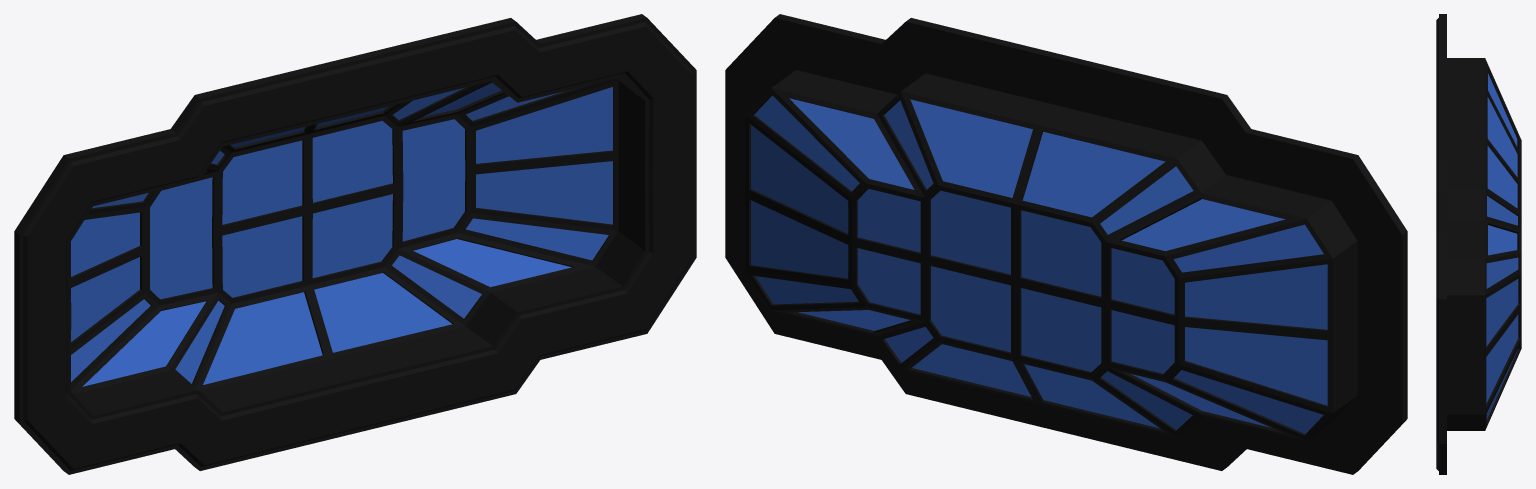
Rendered from Window.fbx.
The picture shows the model from 3 angles, left to right: view 1: azimuth 30°, elevation 25°; view 2: azimuth 150°, elevation 25°; view 3: azimuth 270°, elevation 25°; orthographic projection. The views are drawn at different scales.
Visible parts, largest first — view 1: Window; view 2: Window; view 3: Window.
Part boxes in pixels (bbox=[...]): Window: bbox=[14, 14, 696, 474]; Window: bbox=[725, 14, 1407, 474]; Window: bbox=[1436, 14, 1521, 474].
Bounding box in the file's own units: 298 × 157 × 42.25.
